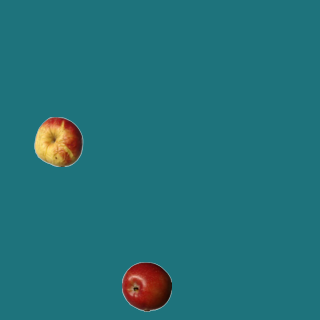Apple Braeburn: (121, 261, 171, 311)
Apple Red Yellow 1: (33, 116, 83, 166)
